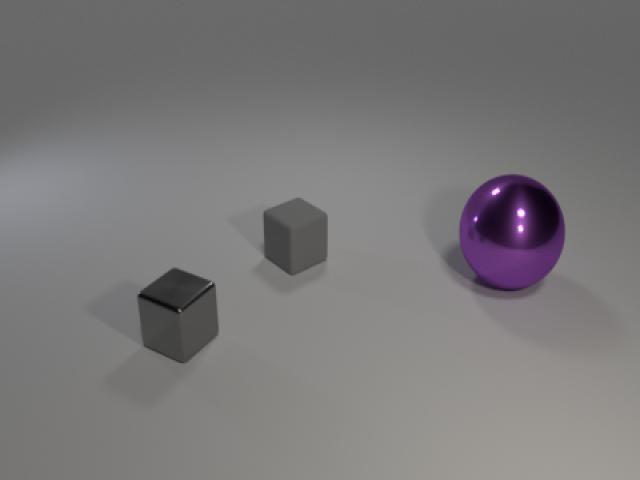round ball: (444, 164, 576, 302)
